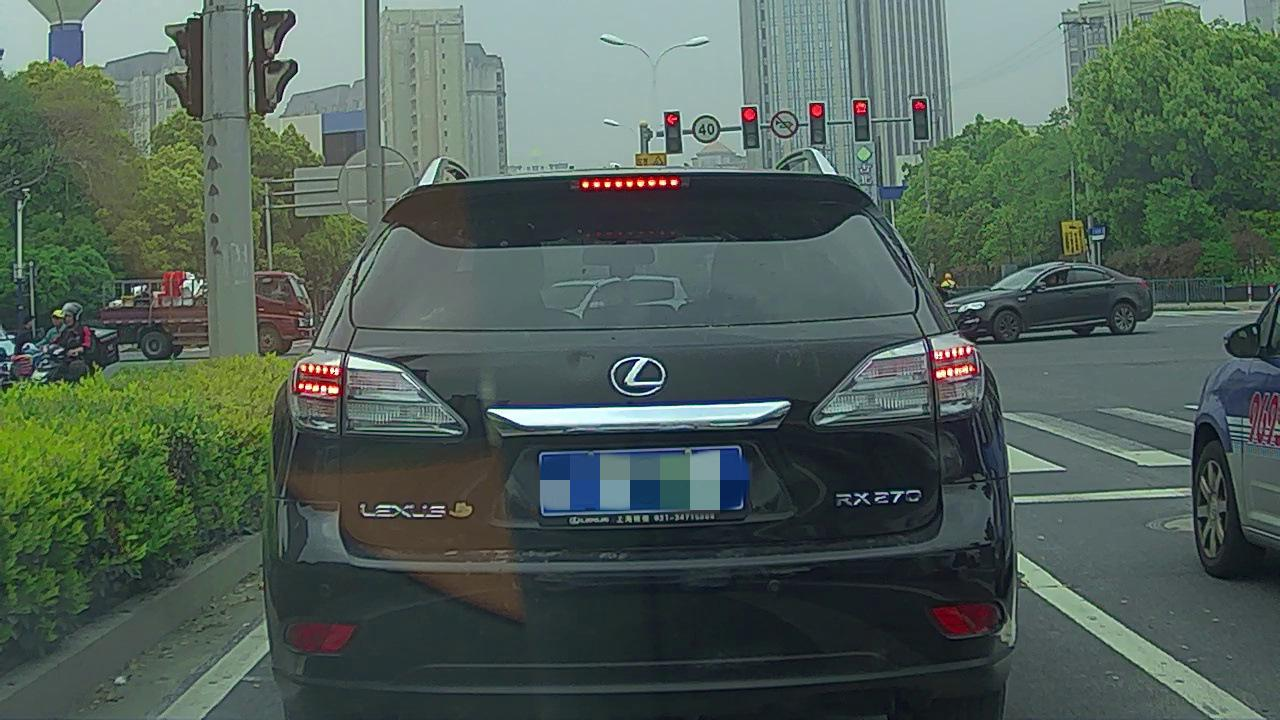traffic_light: (664, 111, 683, 153), (809, 102, 827, 143), (853, 99, 870, 141), (913, 97, 928, 140), (743, 106, 758, 148)
